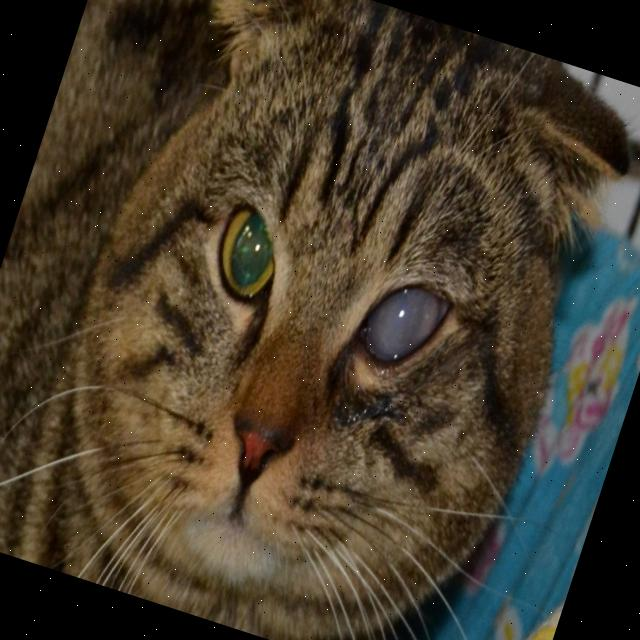cat-eye: (354, 267, 459, 379)
cat-eye-normal: (200, 194, 298, 304)
